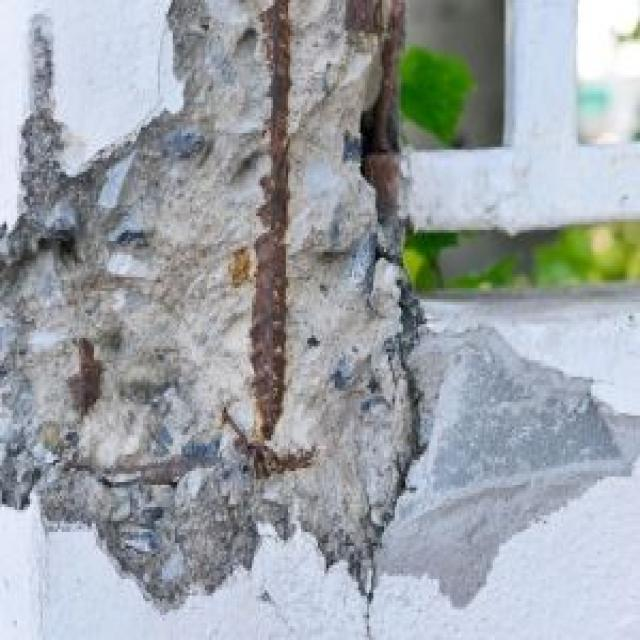Rebar: (0, 0, 640, 618)
